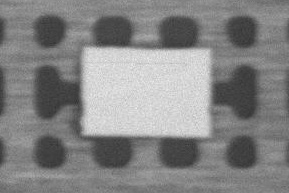DIE_CRACK: (84, 59, 182, 65)
